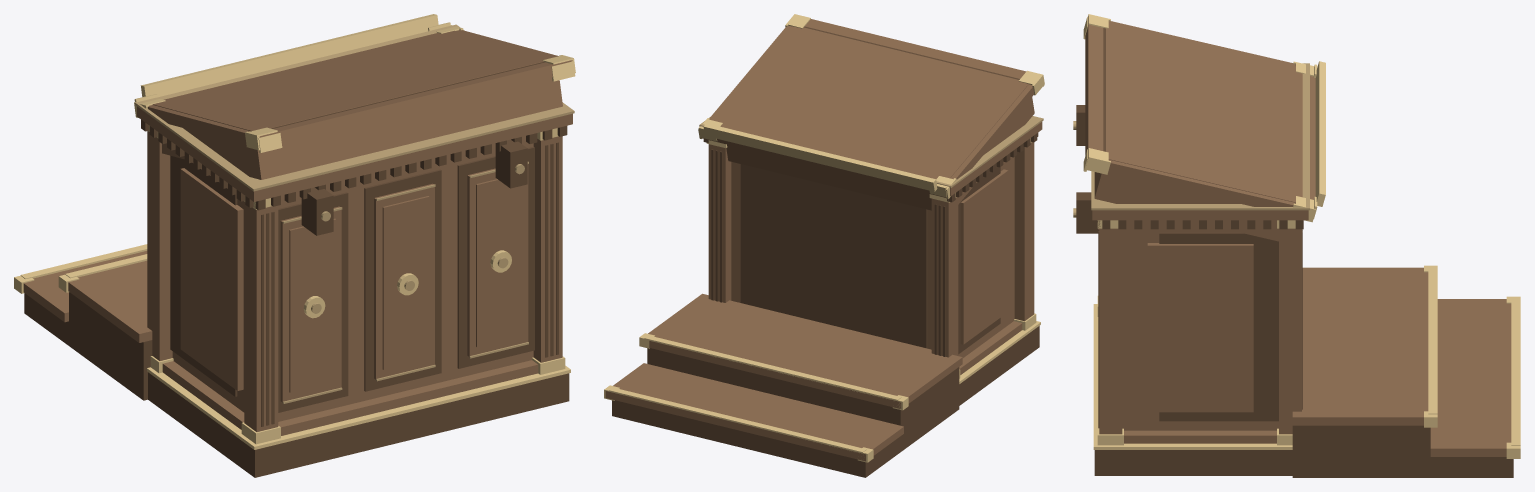
Rendered from lib_lectern.glb.
The picture shows the model from 3 angles, left to right: view 1: azimuth 30°, elevation 25°; view 2: azimuth 150°, elevation 25°; view 3: azimuth 270°, elevation 25°; orthographic projection. The views are drawn at different scales.
Parts seen in each view (by area): view 1: lib_lectern; view 2: lib_lectern; view 3: lib_lectern.
Boxes of the visible parts, <box> form: lib_lectern: <box>14,14,575,477</box>; lib_lectern: <box>604,14,1044,477</box>; lib_lectern: <box>1073,14,1520,477</box>.
Size of the model in its own units: 1.56 by 1.53 by 1.94.
